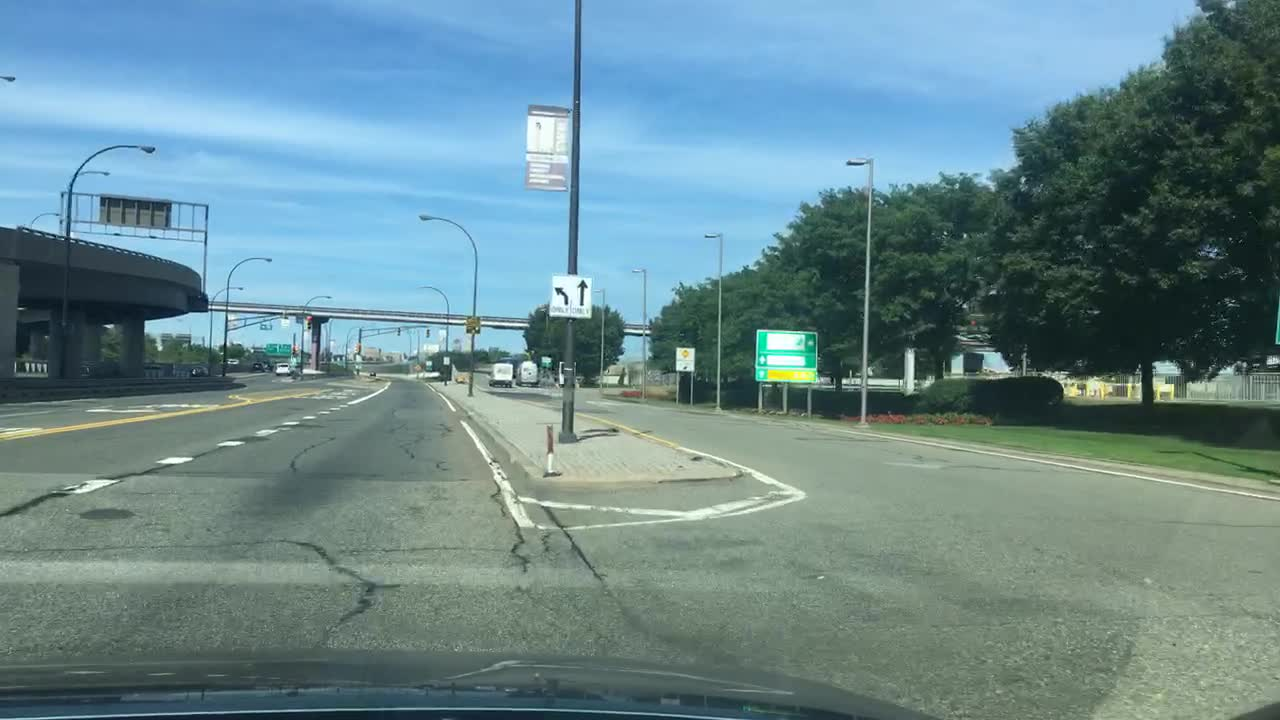car: (185, 364, 206, 380), (246, 359, 266, 373), (273, 363, 290, 376)
traffic light: (303, 315, 314, 331)
traffic sign: (754, 326, 818, 386), (98, 192, 168, 229), (550, 273, 590, 315), (671, 346, 697, 373), (261, 341, 290, 356), (464, 314, 482, 334)
truck: (486, 361, 513, 388), (514, 361, 536, 386)
